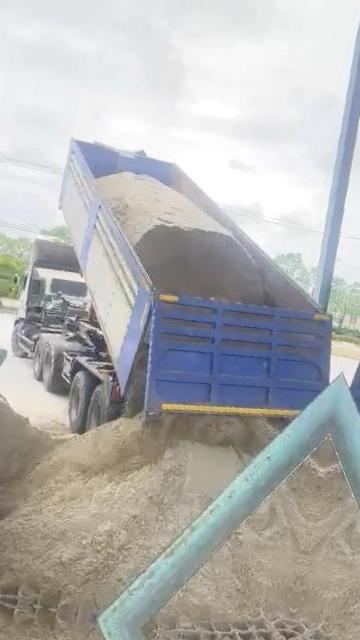sand: (0, 331, 274, 614), (151, 461, 322, 627), (97, 172, 275, 305), (0, 396, 76, 485)
